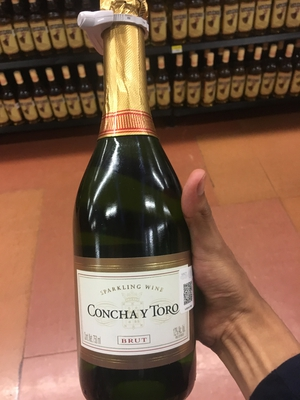brut: (55, 18, 200, 400)
